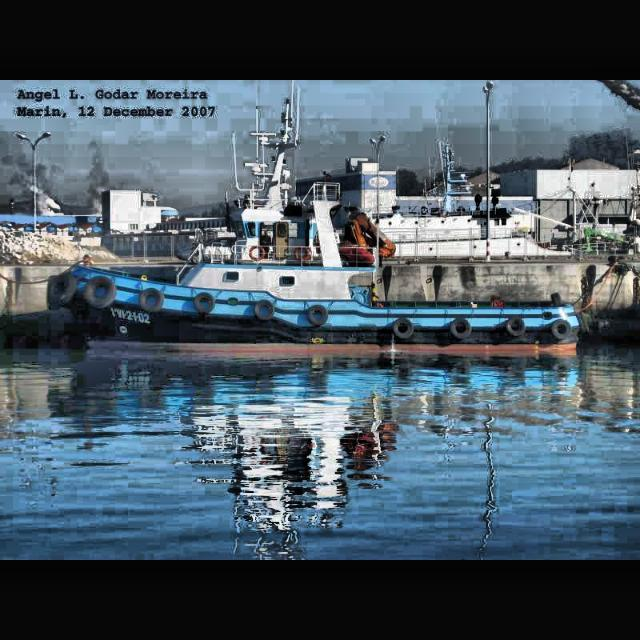tug: (71, 179, 584, 363)
